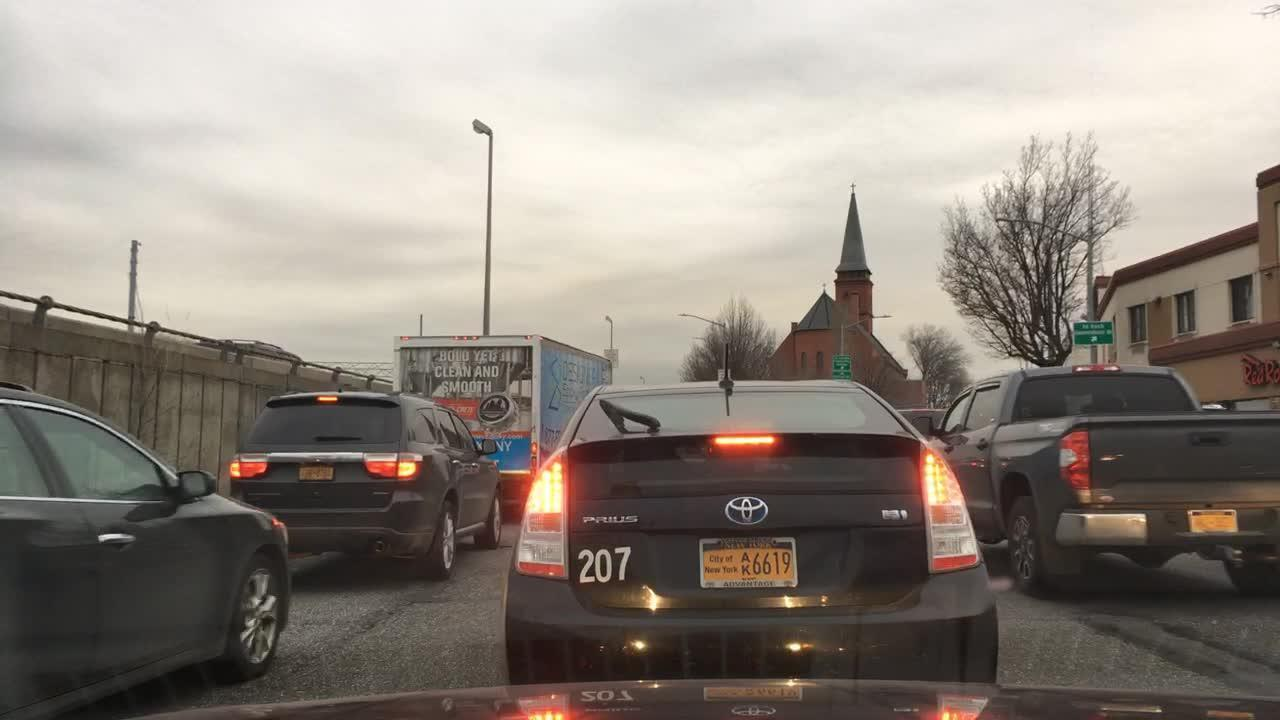Toyota: (717, 489, 779, 532)
